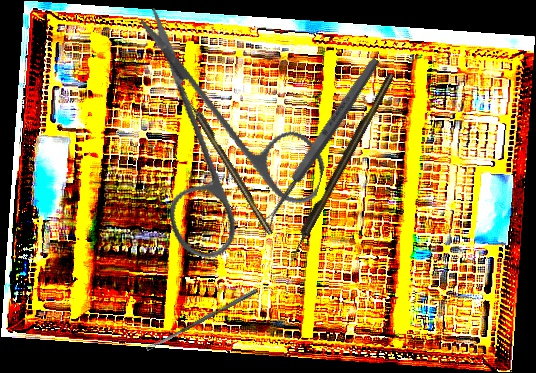Hook Surgical: (283, 72, 397, 265), (182, 90, 274, 237)
Iris Scissors: (83, 5, 354, 283)
Surgical Spoon: (255, 55, 383, 234), (145, 287, 259, 352)
